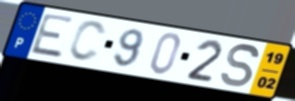0: (148, 31, 183, 76)
2: (184, 39, 224, 85)
9: (111, 28, 148, 69)
C: (66, 19, 108, 64)
E: (28, 12, 77, 60)
S: (219, 42, 261, 90)
